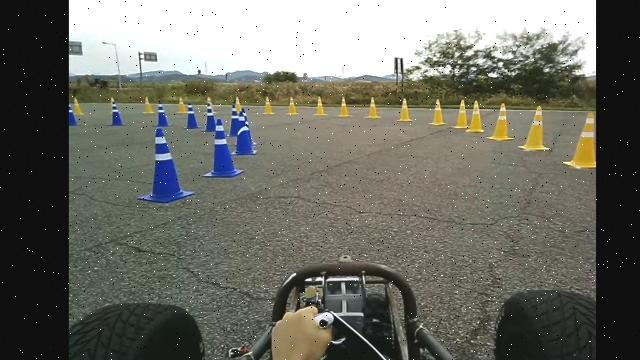blue cone: (137, 127, 195, 203), (202, 117, 244, 178), (152, 102, 173, 128), (227, 104, 243, 137), (183, 103, 201, 129), (108, 102, 126, 126), (201, 105, 216, 132)
yellow cone: (562, 112, 596, 168), (518, 105, 552, 151), (486, 103, 514, 140), (466, 100, 484, 132), (428, 98, 447, 125), (453, 99, 469, 128), (396, 97, 413, 122), (364, 96, 381, 119), (337, 96, 351, 117), (313, 96, 327, 116), (286, 96, 299, 115)
